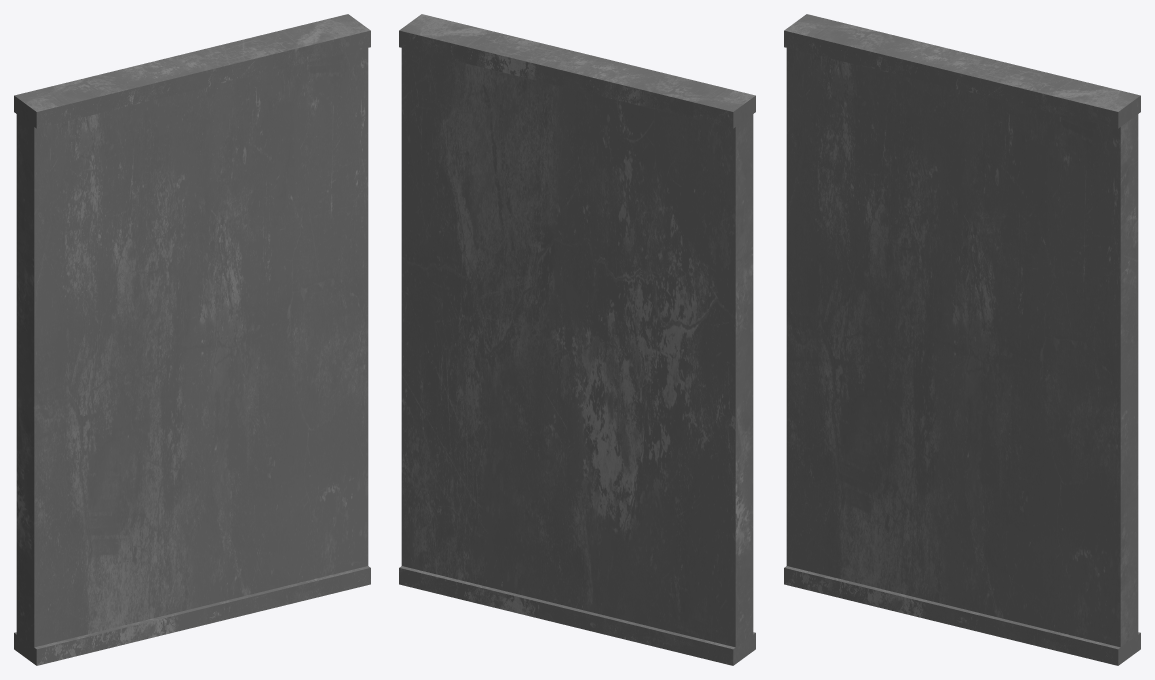
The model's file is WALL BASEMENT 2.fbx.
3 views of the same model, side by side, from view 1: azimuth 30°, elevation 25°; view 2: azimuth 150°, elevation 25°; view 3: azimuth 330°, elevation 25° (orthographic).
Parts seen in each view (by area): view 1: WALL BASEMENT 2; view 2: WALL BASEMENT 2; view 3: WALL BASEMENT 2.
Part boxes in pixels (box(x1,y1,x2,y2)): WALL BASEMENT 2: box(14, 14, 370, 665); WALL BASEMENT 2: box(399, 14, 755, 665); WALL BASEMENT 2: box(784, 14, 1140, 665).
Size of the model in its own units: 1.65 by 2.62 by 0.1936.
